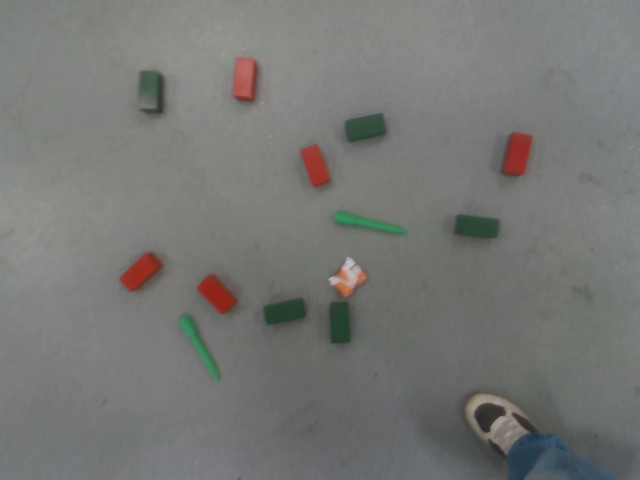Probe: (175, 312, 224, 384), (332, 208, 410, 237)
